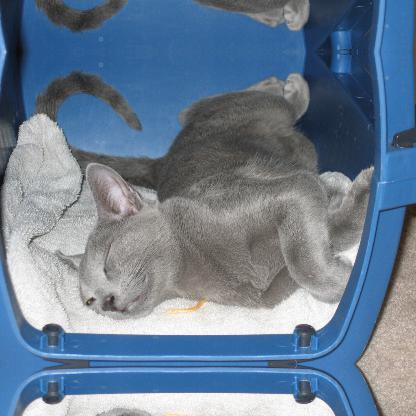Cat: (35, 69, 375, 319)
